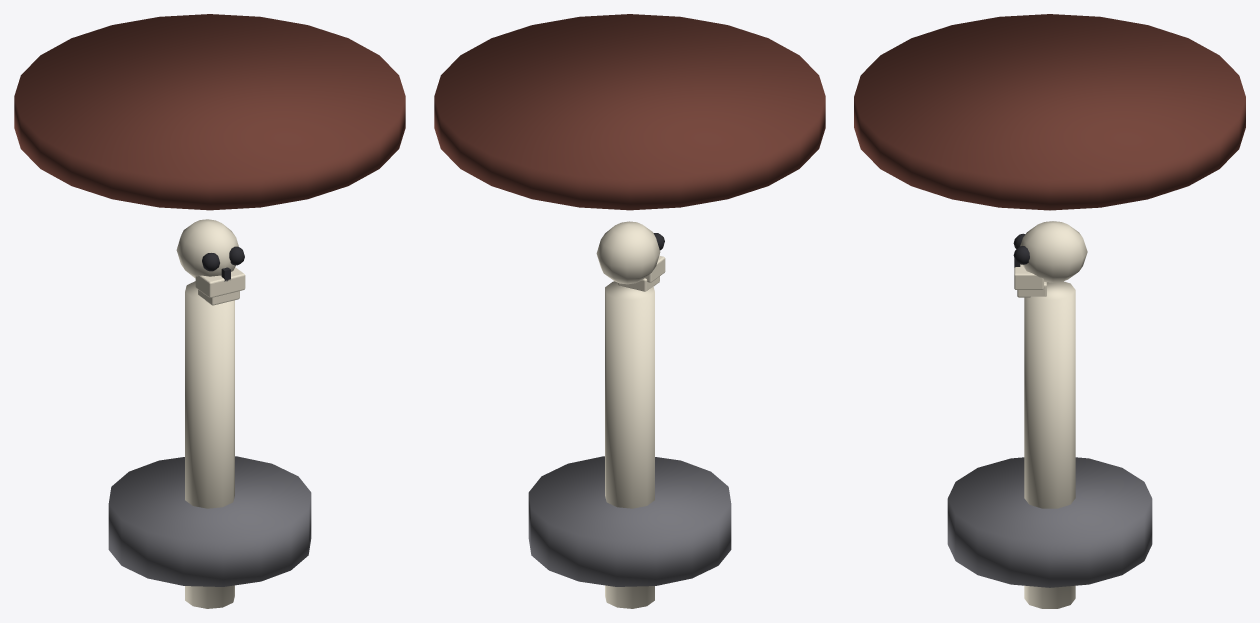
The model's file is side_table_skull_pedestal.glb.
The picture shows the model from 3 angles, left to right: view 1: azimuth 30°, elevation 25°; view 2: azimuth 150°, elevation 25°; view 3: azimuth 270°, elevation 25°; orthographic projection.
Parts seen in each view (by area): view 1: GD_side_table_skull_pedestal__m0, GD_side_table_skull_pedestal__m1, GD_side_table_skull_pedestal__m2, GD_side_table_skull_pedestal__m3; view 2: GD_side_table_skull_pedestal__m0, GD_side_table_skull_pedestal__m1, GD_side_table_skull_pedestal__m2; view 3: GD_side_table_skull_pedestal__m0, GD_side_table_skull_pedestal__m1, GD_side_table_skull_pedestal__m2.
Boxes of the visible parts, left/top/right/bottom form: GD_side_table_skull_pedestal__m0: left=14, top=14, right=405, bottom=210; GD_side_table_skull_pedestal__m1: left=108, top=456, right=311, bottom=586; GD_side_table_skull_pedestal__m2: left=176, top=219, right=245, bottom=608; GD_side_table_skull_pedestal__m3: left=202, top=246, right=244, bottom=281; GD_side_table_skull_pedestal__m0: left=434, top=14, right=825, bottom=210; GD_side_table_skull_pedestal__m1: left=528, top=456, right=731, bottom=586; GD_side_table_skull_pedestal__m2: left=596, top=221, right=665, bottom=608; GD_side_table_skull_pedestal__m0: left=854, top=14, right=1245, bottom=210; GD_side_table_skull_pedestal__m1: left=947, top=457, right=1152, bottom=587; GD_side_table_skull_pedestal__m2: left=1014, top=221, right=1087, bottom=608.
Bounding box in the file's own units: 0.46 × 0.65 × 0.46.
